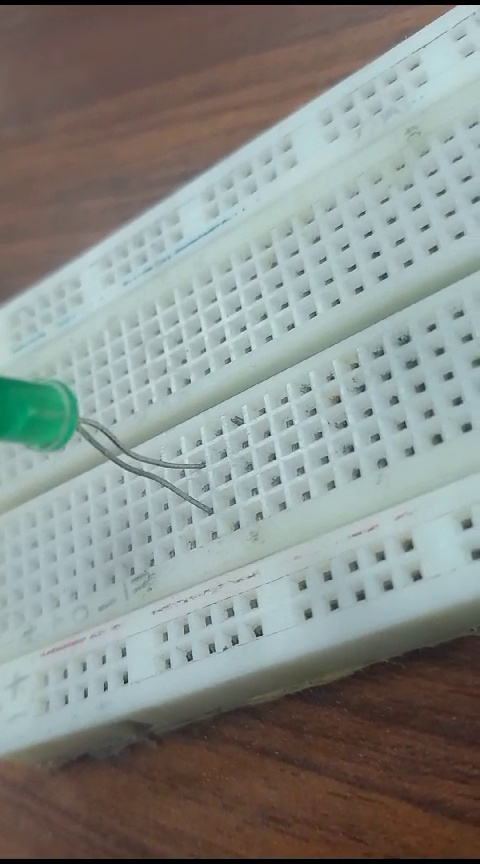LED: (4, 364, 214, 532)
